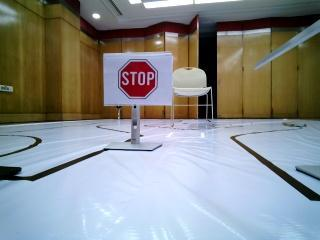stop: (108, 56, 167, 100)
